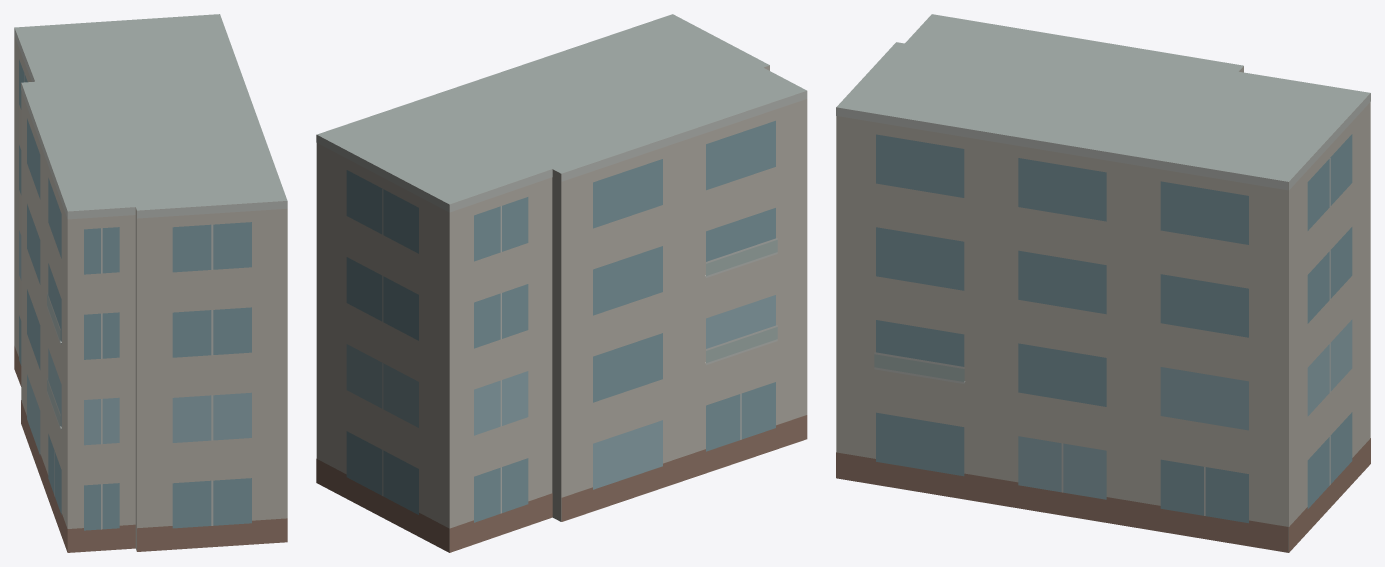
Rendered from survey-upis-32481867.glb.
The picture shows the model from 3 angles, left to right: view 1: azimuth 30°, elevation 25°; view 2: azimuth 150°, elevation 25°; view 3: azimuth 270°, elevation 25°; orthographic projection. The views are drawn at different scales.
Parts seen in each view (by area): view 1: survey-upis-32481867.tmp; view 2: survey-upis-32481867.tmp; view 3: survey-upis-32481867.tmp.
Part boxes in pixels (x1=…): survey-upis-32481867.tmp: x1=14, y1=14, x2=287, y2=552; survey-upis-32481867.tmp: x1=316, y1=14, x2=807, y2=552; survey-upis-32481867.tmp: x1=836, y1=14, x2=1370, y2=552.
Bounding box in the file's own units: 10.2 × 10.5 × 13.72.
